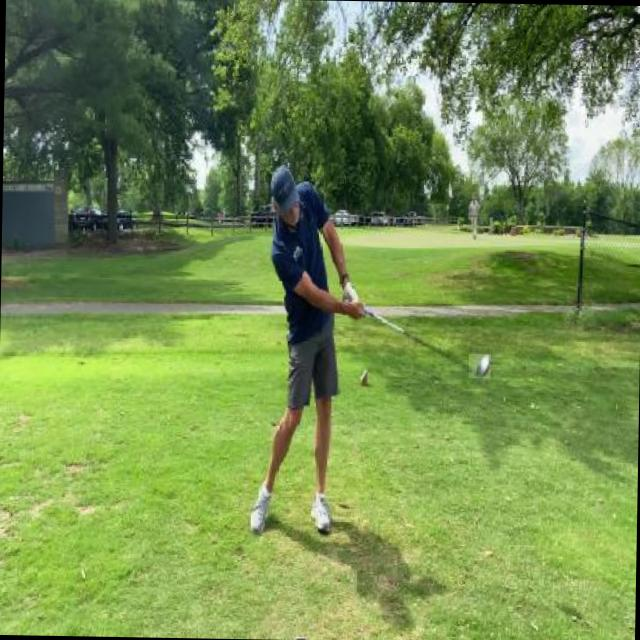club head: (468, 354, 490, 378)
